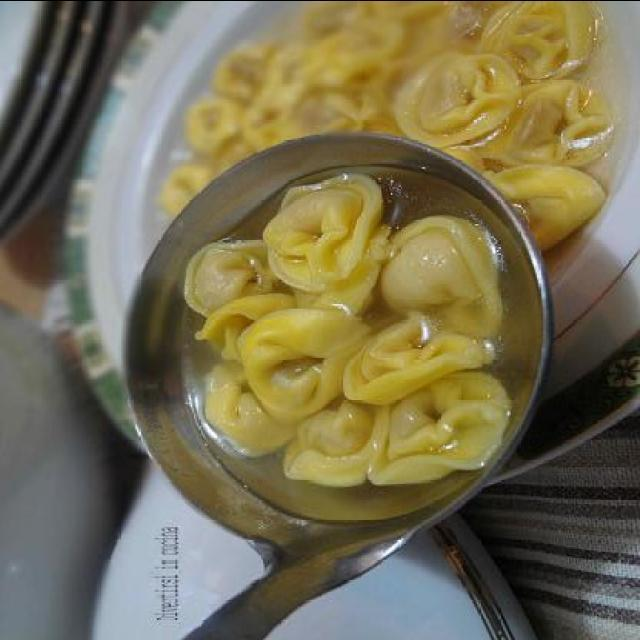Tortellini in broth: (160, 148, 517, 514)
